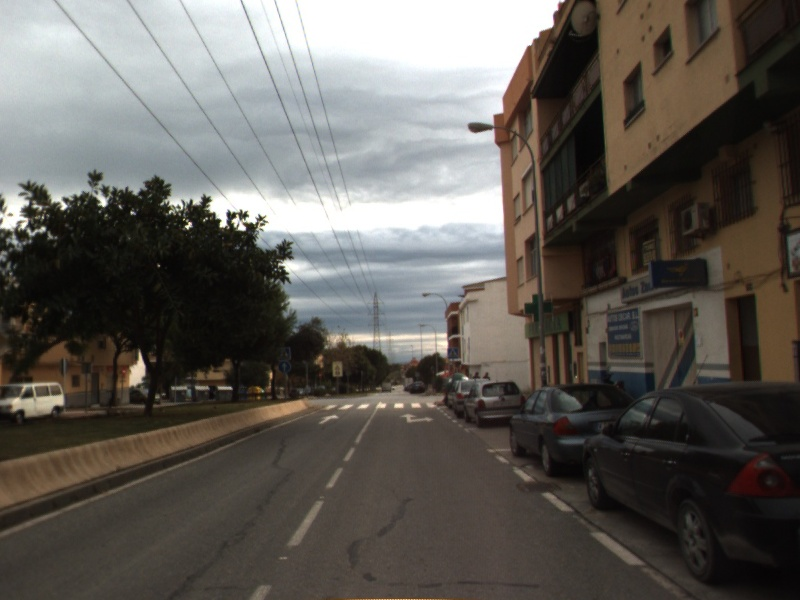STRAIGHT: (315, 412, 342, 426)
STRAIGHT_RIGHT: (398, 411, 437, 425)
